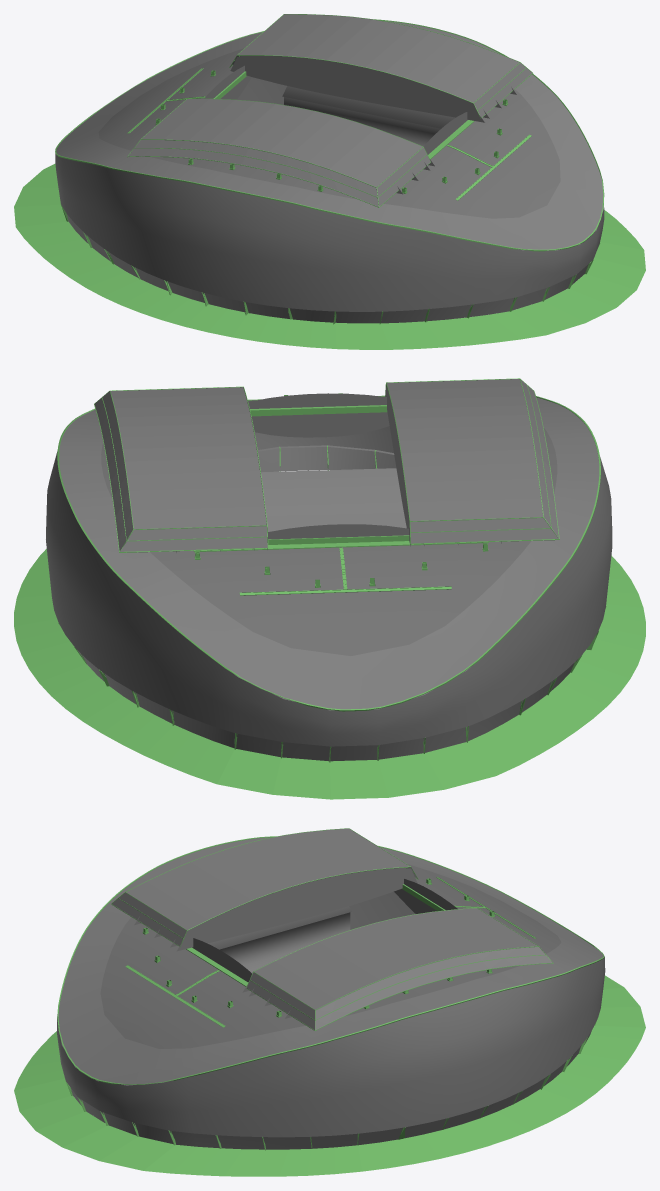
The model's file is Stadion4.FBX.
3 views of the same model, one above another, from view 1: azimuth 30°, elevation 25°; view 2: azimuth 150°, elevation 25°; view 3: azimuth 270°, elevation 25° (orthographic). The views are drawn at different scales.
Visible parts, largest first — view 1: Plane03, Group003, Group01, Group02, Balka01, Shape006, Shape01, Shape05, Shape04, Shape03, Box02; view 2: Plane03, Group003, Group02, Group01, Shape03, Shape006, Shape05, Shape01, Balka, Shape04; view 3: Plane03, Group003, Group02, Group01, Balka, Shape006, Shape05, Shape01, Shape03, Shape04.
Part boxes in pixels (left/top/right/bottom): Plane03: left=55, top=21, right=604, bottom=323; Group003: left=14, top=65, right=645, bottom=349; Group01: left=128, top=99, right=430, bottom=206; Group02: left=230, top=14, right=532, bottom=117; Balka01: left=230, top=55, right=516, bottom=122; Shape006: left=55, top=19, right=604, bottom=251; Shape01: left=127, top=98, right=430, bottom=207; Shape05: left=229, top=14, right=532, bottom=118; Shape04: left=60, top=204, right=599, bottom=324; Shape03: left=213, top=71, right=474, bottom=159; Box02: left=155, top=70, right=508, bottom=193; Plane03: left=46, top=396, right=612, bottom=761; Group003: left=14, top=393, right=645, bottom=799; Group02: left=94, top=387, right=267, bottom=551; Group01: left=386, top=379, right=558, bottom=543; Shape03: left=194, top=405, right=488, bottom=552; Shape006: left=57, top=396, right=600, bottom=711; Shape05: left=94, top=386, right=268, bottom=552; Shape01: left=385, top=378, right=559, bottom=544; Balka: left=385, top=386, right=501, bottom=546; Shape04: left=51, top=445, right=606, bottom=762; Plane03: left=56, top=837, right=605, bottom=1149; Group003: left=14, top=877, right=645, bottom=1176; Group02: left=246, top=908, right=552, bottom=1030; Group01: left=112, top=828, right=417, bottom=945; Balka: left=134, top=867, right=417, bottom=951; Shape006: left=57, top=836, right=604, bottom=1084; Shape05: left=246, top=908, right=553, bottom=1030; Shape01: left=111, top=828, right=418, bottom=946; Shape03: left=186, top=884, right=445, bottom=986; Shape04: left=60, top=1007, right=601, bottom=1150.
Size of the model in its own units: 3388 by 1040 by 3831.
